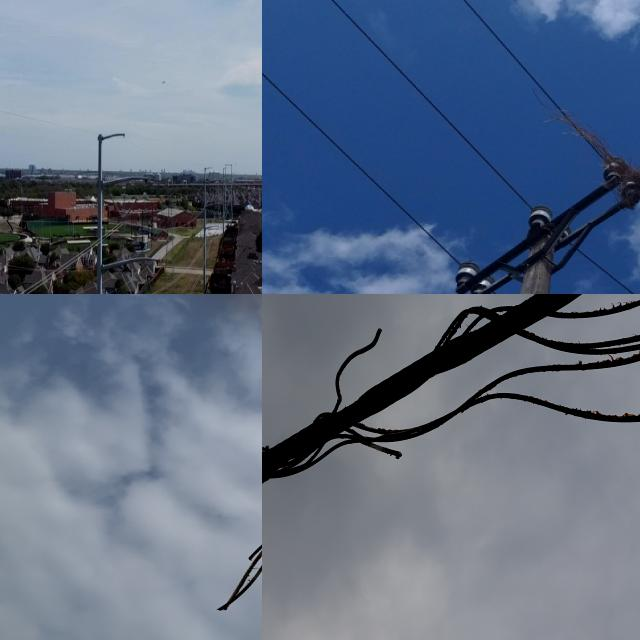植被遮挡: (545, 113, 640, 209)
正常绝缘子: (120, 192, 141, 226), (108, 189, 126, 226), (134, 271, 155, 294), (118, 268, 134, 294)
电缆破损: (262, 294, 640, 527)
